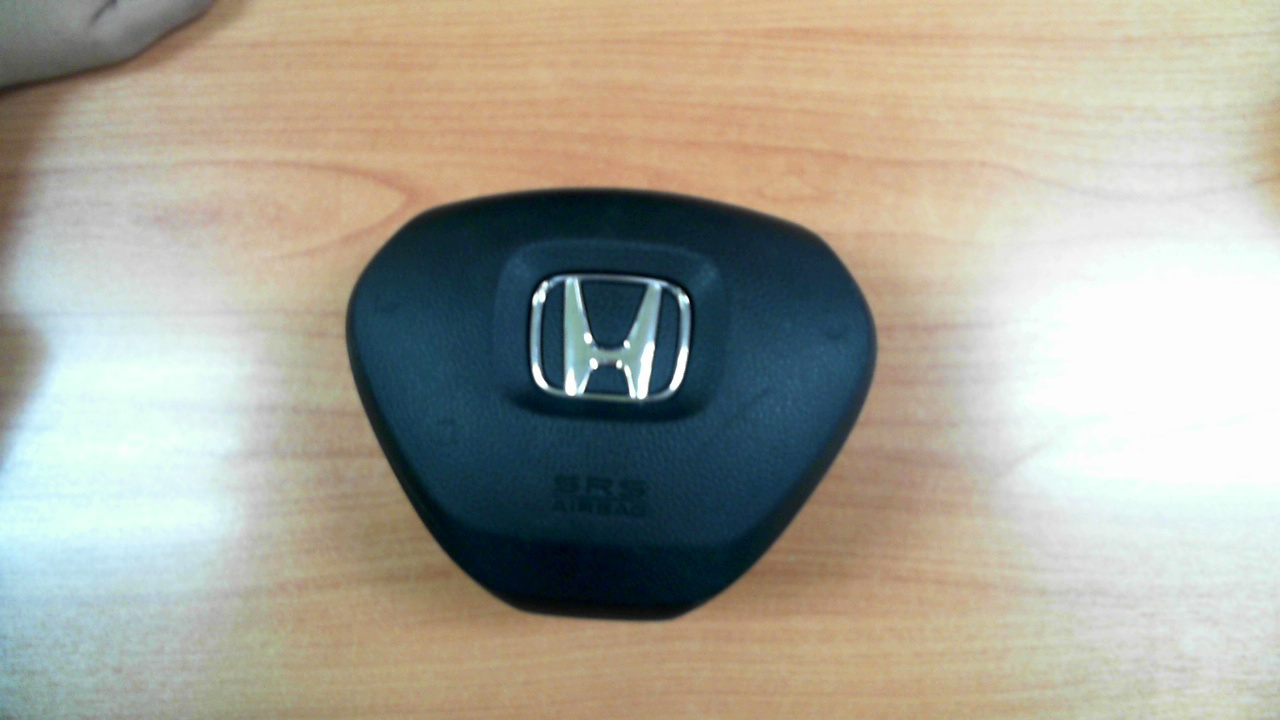Airbag: (345, 188, 878, 623)
Honda: (529, 273, 692, 403)
